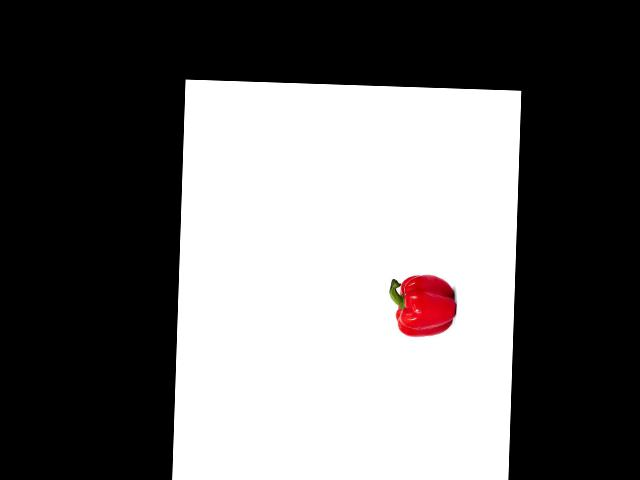bell_pepper: (386, 271, 456, 341)
